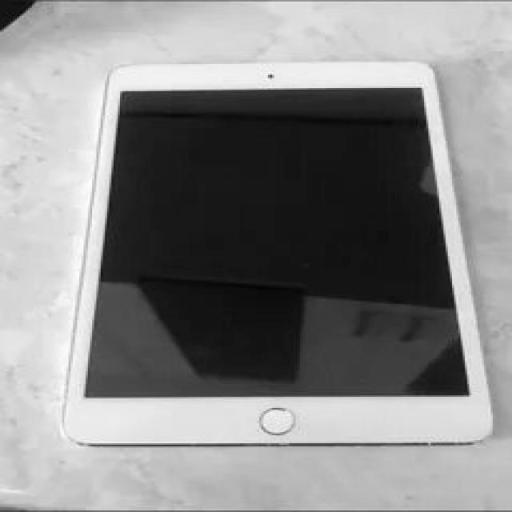phone: (65, 64, 497, 452)
